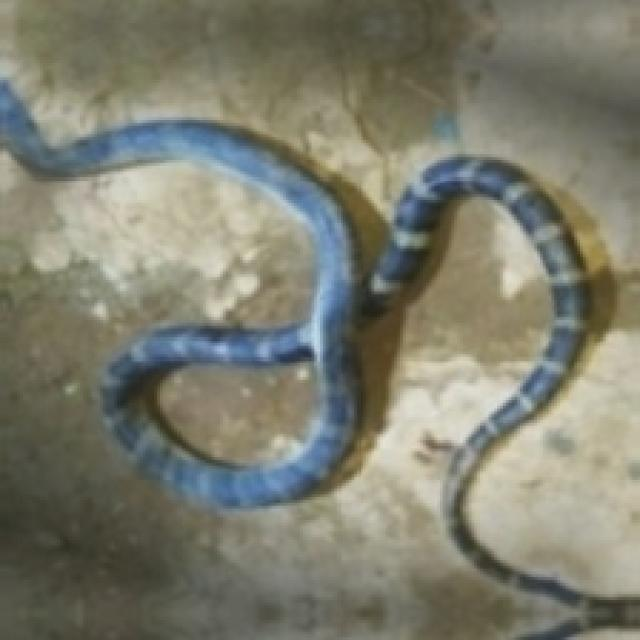king cobra: (0, 83, 637, 637), (154, 351, 317, 466)
